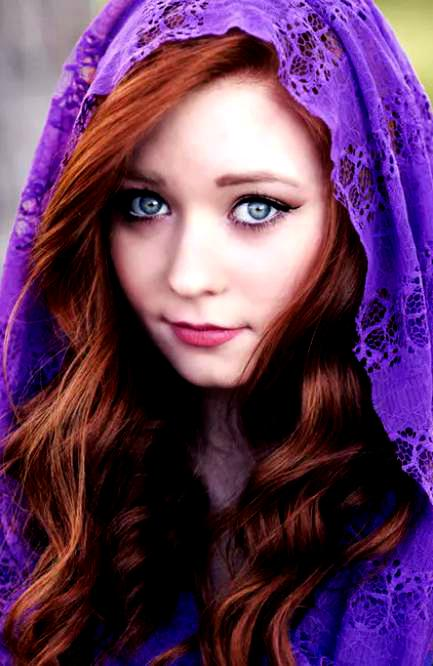face: (108, 73, 328, 390)
